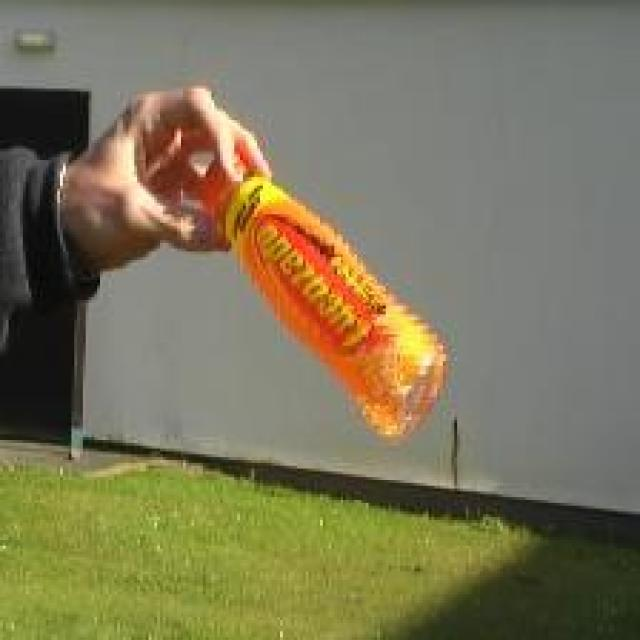other: (182, 148, 485, 450)
